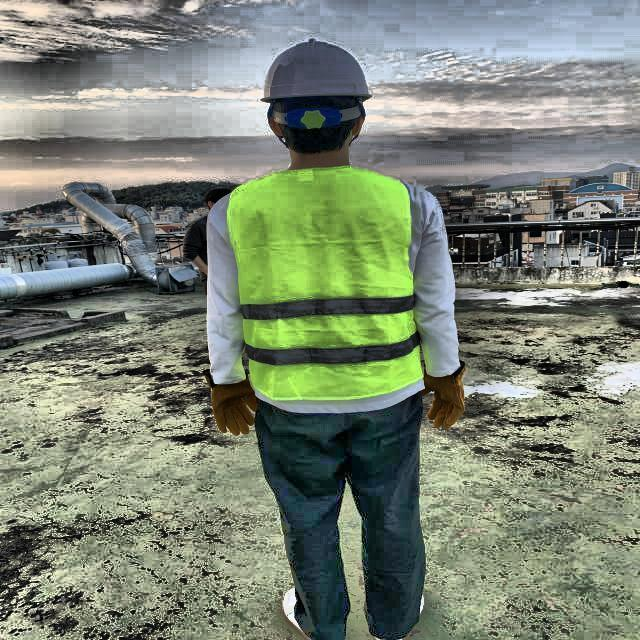safety_helmet: (260, 38, 371, 105)
safety_jacket: (229, 167, 425, 400)
